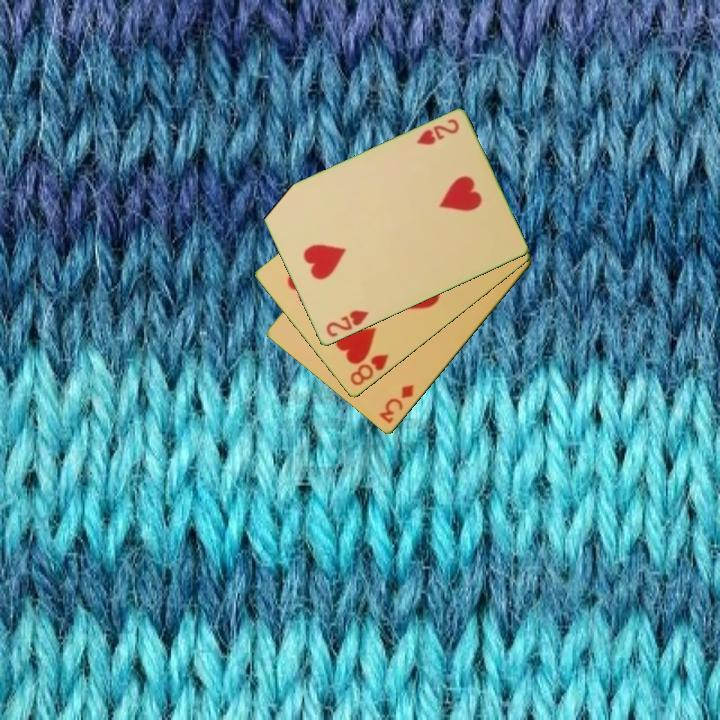2h: (413, 115, 462, 149), (322, 307, 371, 340)
3d: (375, 381, 417, 426)
8h: (346, 351, 392, 389)
